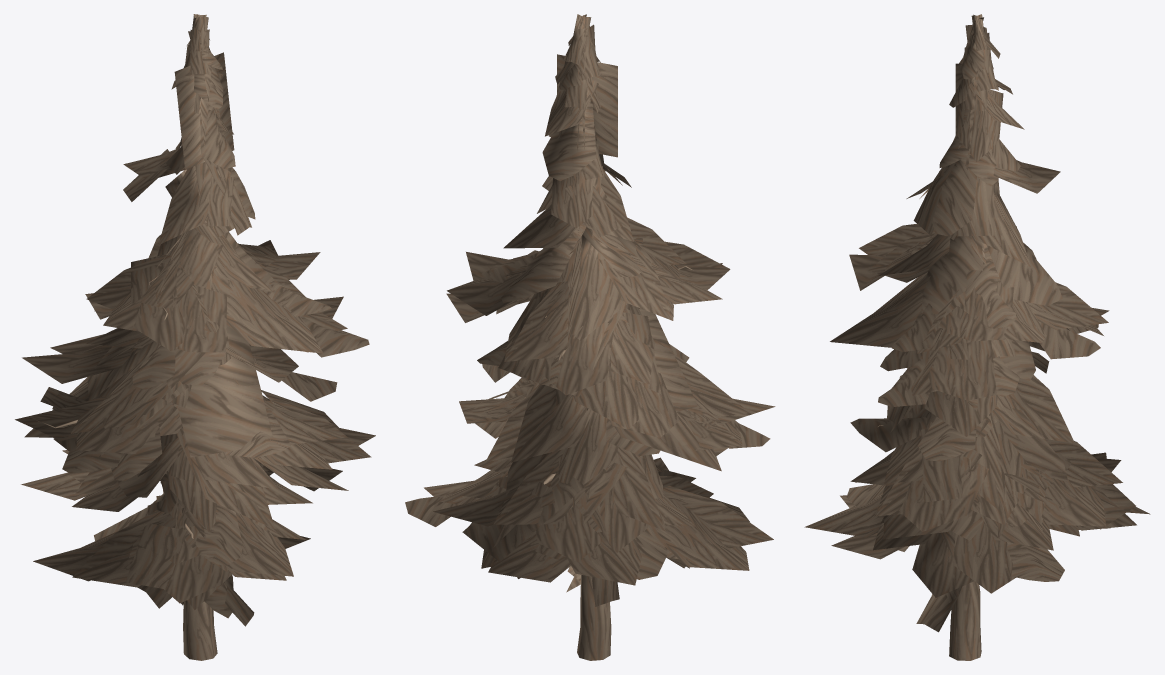
Rendered from P_Pine02_Snowy.obj.
3 renders of one model, left to right at view 1: azimuth 30°, elevation 25°; view 2: azimuth 150°, elevation 25°; view 3: azimuth 270°, elevation 25°, orthographic.
Size of the model in its own units: 9.73 by 18.29 by 8.97.
